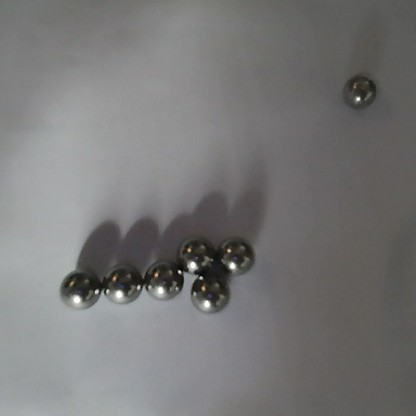ironball: (59, 265, 104, 310), (189, 271, 233, 316), (98, 262, 142, 304), (338, 70, 377, 113), (146, 259, 185, 299), (172, 233, 213, 271), (217, 237, 256, 276)
